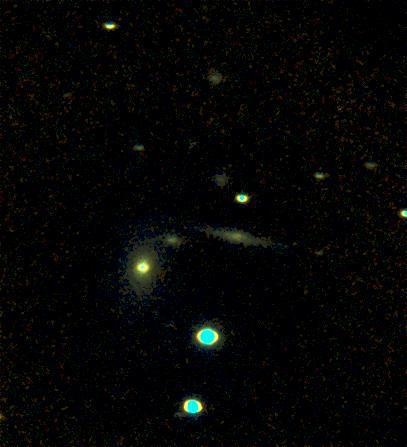star: (280, 227, 310, 257)
